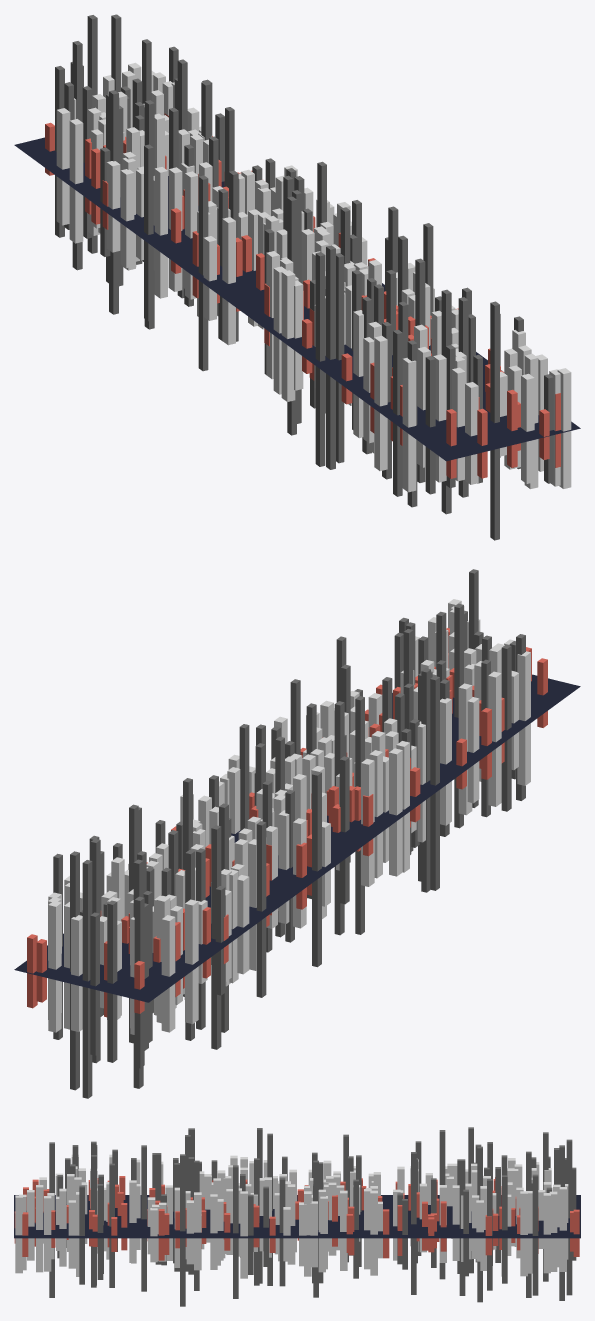
The model's file is city chunk right.fbx.
The picture shows the model from 3 angles, top to bottom: view 1: azimuth 30°, elevation 25°; view 2: azimuth 150°, elevation 25°; view 3: azimuth 270°, elevation 25°; orthographic projection. The views are drawn at different scales.
Visible parts, largest first — view 1: Plane.008; view 2: Plane.008; view 3: Plane.008.
Boxes of the visible parts, x1,y1,x2,y2 form: Plane.008: [14, 14, 580, 540]; Plane.008: [14, 569, 580, 1098]; Plane.008: [14, 1127, 580, 1306].
Size of the model in its own units: 3600 by 5989 by 20000.
